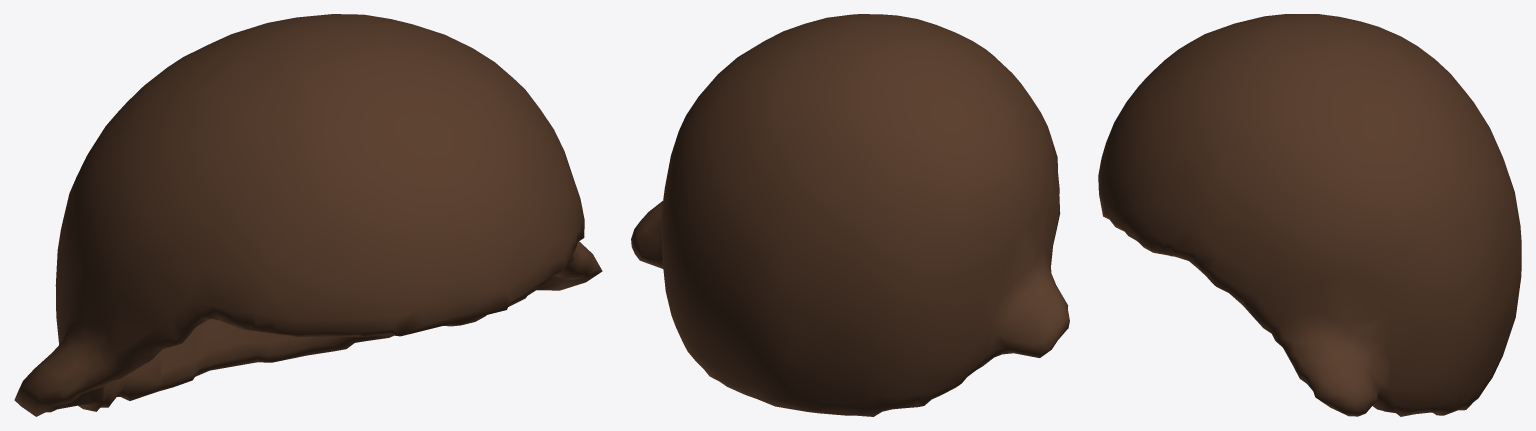
The model's file is hair_crop.glb.
3 views of the same model, side by side, from view 1: azimuth 30°, elevation 25°; view 2: azimuth 150°, elevation 25°; view 3: azimuth 270°, elevation 25° (orthographic). The views are drawn at different scales.
Parts seen in each view (by area): view 1: HairCrop.001; view 2: HairCrop.001; view 3: HairCrop.001.
Boxes of the visible parts, left/top/right/bottom form: HairCrop.001: left=14, top=14, right=602, bottom=416; HairCrop.001: left=631, top=14, right=1069, bottom=416; HairCrop.001: left=1098, top=14, right=1521, bottom=416.
Bounding box in the file's own units: 0.3606 × 0.2511 × 0.2876.
